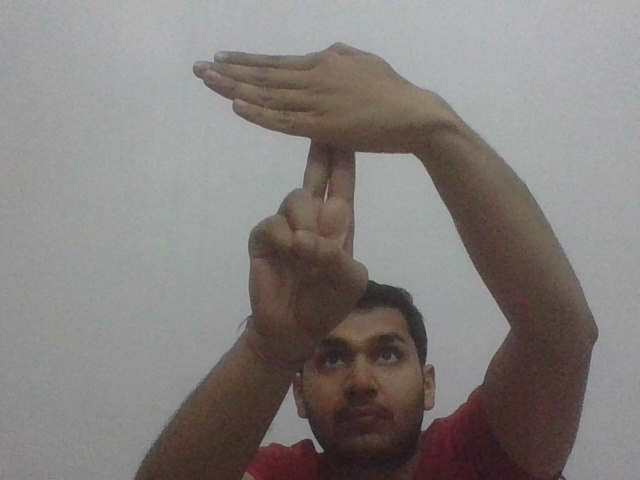N: (188, 40, 408, 200)
